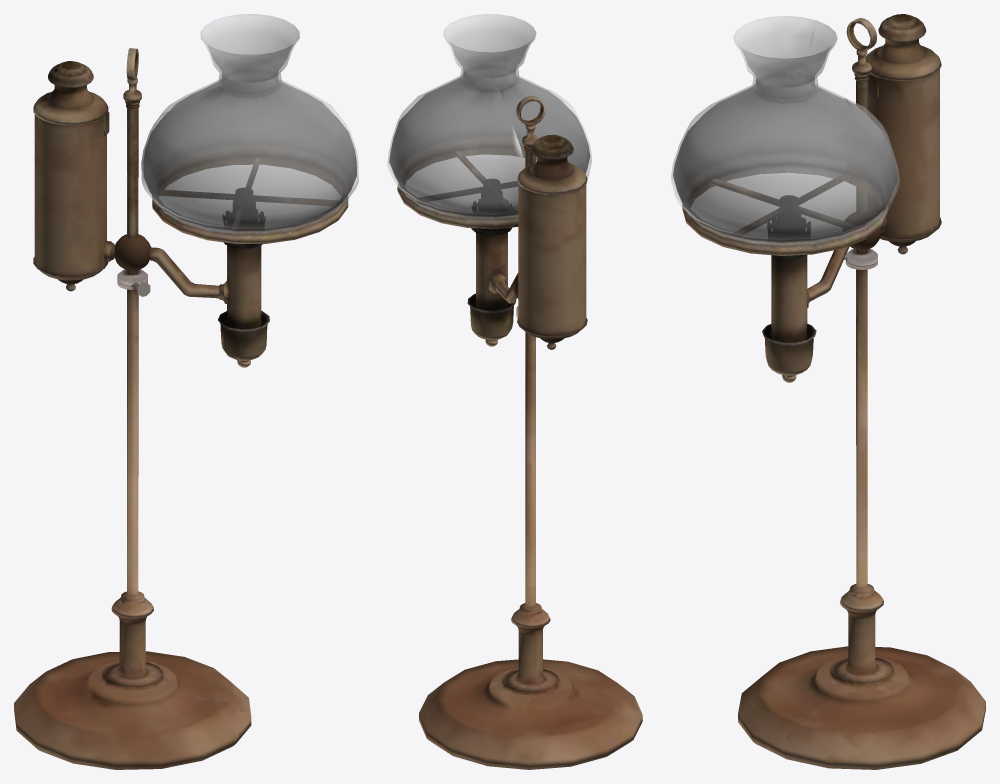
File: obj_victorian_brass_oil_lamp.glb
3 views of the same model, side by side, from view 1: azimuth 30°, elevation 25°; view 2: azimuth 150°, elevation 25°; view 3: azimuth 270°, elevation 25° (orthographic). The views are drawn at different scales.
Parts seen in each view (by area): view 1: Object_2; view 2: Object_2; view 3: Object_2.
Part boxes in pixels (bbox=[...]): Object_2: bbox=[14, 14, 358, 769]; Object_2: bbox=[387, 14, 642, 769]; Object_2: bbox=[671, 14, 985, 769].
Bounding box in the file's own units: 0.6517 × 1.55 × 0.6119.
1 material, 1 textured.
